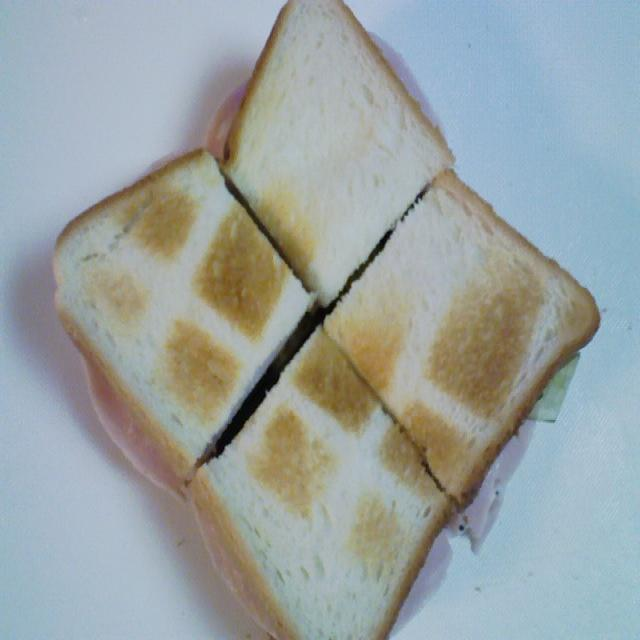面包点心: (0, 0, 596, 640)
